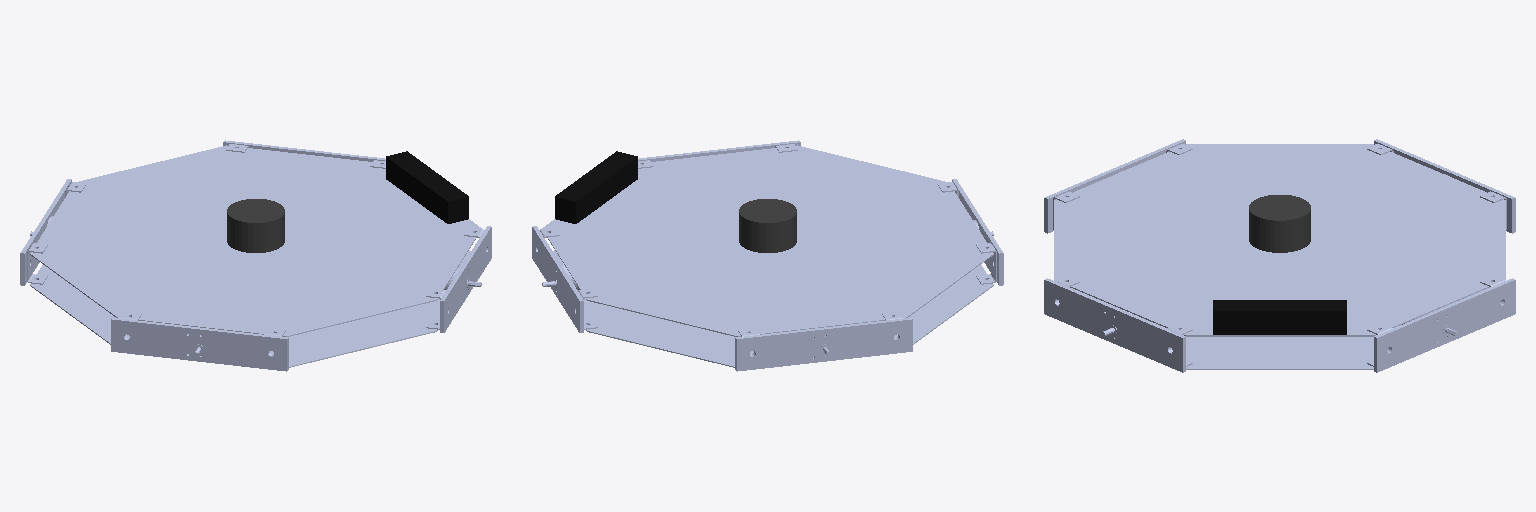
URDF robot description (Octobot_2):
<?xml version="1.0" encoding="utf-8"?>
<!-- This URDF was automatically created by SolidWorks to URDF Exporter! Originally created by [author] ([email redacted]) 
     Commit Version: 1.6.0-4-g7f85cfe  Build Version: 1.6.7995.38578
     For more information, please see http://wiki.ros.org/sw_urdf_exporter -->
<robot
  name="Octobot_2">

  
  <link
    name="base_link">
    <inertial>
      <origin
        xyz="7.1124E-17 -8.3267E-17 0.021908"
        rpy="0 0 0" />
      <mass
        value="1.1176" />
      <inertia
        ixx="0.011447"
        ixy="2.575E-18"
        ixz="4.0437E-20"
        iyy="0.011447"
        iyz="2.4119E-20"
        izz="0.022779" />
    </inertial>
    <visual>
      <origin
        xyz="0 0 0"
        rpy="0 0 0" />
      <geometry>
        <mesh
          filename="package://octobot_2/meshes/Base_link.STL" />
      </geometry>
      <material
        name="">
        <color
          rgba="0.79216 0.81961 0.93333 1" />
      </material>
    </visual>
    <collision>
      <origin
        xyz="0 0 0"
        rpy="0 0 0" />
      <geometry>
        <mesh
          filename="package://octobot_2/meshes/Base_link.STL" />
      </geometry>
    </collision>
  </link>

  <joint name="Base_footprint_joint" type="fixed">
        <parent link="base_link"/>
        <child link="base_footprint"/>
        <origin xyz="0 0 0" rpy="0 0 0"/>
    </joint>
    <link name="base_footprint">
    </link>

  <link
    name="FL_Link">
    <inertial>
      <origin
        xyz="9.2184E-07 -1.2007E-07 -0.0070104"
        rpy="0 0 0" />
      <mass
        value="0.088298" />
      <inertia
        ixx="3.4213E-05"
        ixy="4.4784E-10"
        ixz="-8.2869E-11"
        iyy="3.4217E-05"
        iyz="-6.5929E-11"
        izz="6.4363E-05" />
    </inertial>
    <visual>
      <origin
        xyz="0 0 0"
        rpy="0 0 0" />
      <geometry>
        <mesh
          filename="package://octobot_2/meshes/FL_Link.STL" />
      </geometry>
      <material
        name="">
        <color
          rgba="0.39216 0.41961 0.53333 1" />
      </material>
    </visual>
    <collision>
      <origin
        xyz="0 0 0"
        rpy="0 0 0" />
      <geometry>
        <mesh
          filename="package://octobot_2/meshes/FL_Link.STL" />
      </geometry>
    </collision>
  </link>
  <joint
    name="FL_Joint"
    type="continuous">
    <origin
      xyz="0.20406 0.20406 0.018501"
      rpy="1.5708 0 2.3562" />
    <parent
      link="base_link" />
    <child
      link="FL_Link" />
    <axis
      xyz="0 0 -1" />
  </joint>
  <link
    name="BL_Link">
    <inertial>
      <origin
        xyz="9.2186E-07 -1.2049E-07 -0.0070104"
        rpy="0 0 0" />
      <mass
        value="0.088298" />
      <inertia
        ixx="3.4213E-05"
        ixy="4.4798E-10"
        ixz="-8.2849E-11"
        iyy="3.4217E-05"
        iyz="-6.5977E-11"
        izz="6.4363E-05" />
    </inertial>
    <visual>
      <origin
        xyz="0 0 0"
        rpy="0 0 0" />
      <geometry>
        <mesh
          filename="package://octobot_2/meshes/BL_Link.STL" />
      </geometry>
      <material
        name="">
        <color
          rgba="0.39216 0.41961 0.53333 1" />
      </material>
    </visual>
    <collision>
      <origin
        xyz="0 0 0"
        rpy="0 0 0" />
      <geometry>
        <mesh
          filename="package://octobot_2/meshes/BL_Link.STL" />
      </geometry>
    </collision>
  </link>
  <joint
    name="BL_Joint"
    type="continuous">
    <origin
      xyz="-0.20406 0.20406 0.018501"
      rpy="1.5708 0 -2.3562" />
    <parent
      link="base_link" />
    <child
      link="BL_Link" />
    <axis
      xyz="0 0 -1" />
  </joint>
  <link
    name="BR_Link">
    <inertial>
      <origin
        xyz="-2.7677E-07 1.7253E-07 -0.0069896"
        rpy="0 0 0" />
      <mass
        value="0.088298" />
      <inertia
        ixx="3.4213E-05"
        ixy="-4.4778E-10"
        ixz="-8.2879E-11"
        iyy="3.4217E-05"
        iyz="6.5933E-11"
        izz="6.4363E-05" />
    </inertial>
    <visual>
      <origin
        xyz="0 0 0"
        rpy="0 0 0" />
      <geometry>
        <mesh
          filename="package://octobot_2/meshes/BR_Link.STL" />
      </geometry>
      <material
        name="">
        <color
          rgba="0.39216 0.41961 0.53333 1" />
      </material>
    </visual>
    <collision>
      <origin
        xyz="0 0 0"
        rpy="0 0 0" />
      <geometry>
        <mesh
          filename="package://octobot_2/meshes/BR_Link.STL" />
      </geometry>
    </collision>
  </link>
  <joint
    name="BR_Joint"
    type="continuous">
    <origin
      xyz="-0.20406 -0.20406 0.0185"
      rpy="1.5708 0 -0.7854" />
    <parent
      link="base_link" />
    <child
      link="BR_Link" />
    <axis
      xyz="0 0 -1" />
  </joint>
  <link
    name="FR_Link">
    <inertial>
      <origin
        xyz="-2.7674E-07 1.7255E-07 -0.0069896"
        rpy="0 0 0" />
      <mass
        value="0.088298" />
      <inertia
        ixx="3.4213E-05"
        ixy="-4.4778E-10"
        ixz="-8.2864E-11"
        iyy="3.4217E-05"
        iyz="6.5947E-11"
        izz="6.4363E-05" />
    </inertial>
    <visual>
      <origin
        xyz="0 0 0"
        rpy="0 0 0" />
      <geometry>
        <mesh
          filename="package://octobot_2/meshes/FR_Link.STL" />
      </geometry>
      <material
        name="">
        <color
          rgba="0.39216 0.41961 0.53333 1" />
      </material>
    </visual>
    <collision>
      <origin
        xyz="0 0 0"
        rpy="0 0 0" />
      <geometry>
        <mesh
          filename="package://octobot_2/meshes/FR_Link.STL" />
      </geometry>
    </collision>
  </link>
  <joint
    name="FR_Joint"
    type="continuous">
    <origin
      xyz="0.20406 -0.20406 0.0185"
      rpy="1.5708 0 0.7854" />
    <parent
      link="base_link" />
    <child
      link="FR_Link" />
    <axis
      xyz="0 0 -1" />
  </joint>
  <link
    name="Lidar_Link">
    <inertial>
      <origin
        xyz="7.9797E-17 -1.1102E-16 0.063"
        rpy="0 0 0" />
      <mass
        value="0.15394" />
      <inertia
        ixx="6.7669E-05"
        ixy="-1.8808E-37"
        ixz="2.3468E-21"
        iyy="6.7669E-05"
        iyz="-9.2535E-24"
        izz="9.4287E-05" />
    </inertial>
    <visual>
      <origin
        xyz="0 0 0"
        rpy="0 0 0" />
      <geometry>
        <mesh
          filename="package://octobot_2/meshes/Lidar_Link.STL" />
      </geometry>
      <material
        name="">
        <color
          rgba="0.3 0.3 0.3 1" />
      </material>
    </visual>
    <collision>
      <origin
        xyz="0 0 0"
        rpy="0 0 0" />
      <geometry>
        <mesh
          filename="package://octobot_2/meshes/Lidar_Link.STL" />
      </geometry>
    </collision>
  </link>
  <joint
    name="Lidar_Joint"
    type="fixed">
    <origin
      xyz="0 0 0"
      rpy="0 0 0" />
    <parent
      link="base_link" />
    <child
      link="Lidar_Link" />
    <axis
      xyz="0 0 0" />
  </joint>
  <gazebo reference="Lidar_Link">
        <material>Gazebo/Black</material>

        <sensor name="laser" type="ray">
            <pose> 0 0 0 0 0 0 </pose>
            <visualize>true</visualize>
            <update_rate>10</update_rate>
            <ray>
                <scan>
                    <horizontal>
                        <samples>360</samples>
                        <min_angle>-3.14</min_angle>
                        <max_angle>3.14</max_angle>
                    </horizontal>
                </scan>
                <range>
                    <min>0.35</min>
                    <max>12</max>
                </range>
            </ray>
            <plugin name="laser_controller" filename="libgazebo_ros_ray_sensor.so">
                <ros>
                    <argument>~/out:=scan</argument>
                </ros>
                <output_type>sensor_msgs/LaserScan</output_type>
                <frame_name>Lidar_Link</frame_name>
            </plugin>
        </sensor>
    </gazebo>
  <link
    name="Camera_Link">
    <inertial>
      <origin
        xyz="7.9797E-17 -1.1102E-16 0.063"
        rpy="0 0 0" />
      <mass
        value="0.15394" />
      <inertia
        ixx="6.7669E-05"
        ixy="-1.8808E-37"
        ixz="2.3468E-21"
        iyy="6.7669E-05"
        iyz="-9.2535E-24"
        izz="9.4287E-05" />
    </inertial>
    <visual>
      <origin
        xyz="0 0 0"
        rpy="0 0 0" />
      <geometry>
        <mesh
          filename="package://octobot_2/meshes/Camera_Link.STL" />
      </geometry>
      <material
        name="">
        <color
          rgba="0.1 0.1 0.1 1" />
      </material>
    </visual>
    <collision>
      <origin
        xyz="0 0 0"
        rpy="0 0 0" />
      <geometry>
        <mesh
          filename="package://octobot_2/meshes/Camera_Link.STL" />
      </geometry>
    </collision>
  </link>
  <joint
    name="Camera_Joint"
    type="fixed">
    <origin
      xyz="0 0 0"
      rpy="0 0 0" />
    <parent
      link="base_link" />
    <child
      link="Camera_Link" />
    <axis
      xyz="0 0 0.063" />
  </joint>

     <gazebo reference="Camera_Link">
        <material>Gazebo/Black</material>

        <sensor name="camera" type="camera">
            <pose> 0 0 0 0 0 0 </pose>
            <visualize>true</visualize>
            <update_rate>10</update_rate>
            <camera>
                <horizontal_fov>1.089</horizontal_fov>
                <image>
                    <format>R8G8B8</format>
                    <width>640</width>
                    <height>480</height>
                </image>
                <clip>
                    <near>0.05</near>
                    <far>8.0</far>
                </clip>
            </camera>
            <plugin name="camera_controller" filename="libgazebo_ros_camera.so">
                <frame_name>Camera_Link</frame_name>
            </plugin>
        </sensor>
    </gazebo>
    
  	<gazebo>
        <plugin name="diff_drive" filename="libgazebo_ros_planar_move.so">
            <!-- Output -->
            <odometry_frame>odom</odometry_frame>
            <robot_base_frame>base_link </robot_base_frame>

            <publish_odom>true</publish_odom>
            <publish_odom_tf>true</publish_odom_tf>
            <publish_wheel_tf>true</publish_wheel_tf>

        </plugin>
    </gazebo>


</robot>

--- Facts derived from the render (not from the file) ---
3 views of the same robot in one strip: view 1: azimuth 30°, elevation 25°; view 2: azimuth 150°, elevation 25°; view 3: azimuth 270°, elevation 25° (orthographic).
Robot: Octobot_2 — 8 links, 7 joints (4 continuous, 3 fixed); root link base_link; default pose: all joints at 0.
Visible links, largest first — view 1: base_link, Camera_Link, Lidar_Link; view 2: base_link, Camera_Link, Lidar_Link; view 3: base_link, Camera_Link, Lidar_Link.
Link boxes in pixels (x1,y1,x2,y2): base_link: (20,140,491,371); Camera_Link: (386,151,468,223); Lidar_Link: (227,199,284,252); base_link: (532,140,1003,371); Camera_Link: (555,151,637,223); Lidar_Link: (739,199,796,252); base_link: (1044,139,1515,372); Camera_Link: (1213,300,1346,334); Lidar_Link: (1249,195,1310,252).
Bounding box of the posed robot: 0.5297 × 0.5297 × 0.083 m (x, y, z).
3 mesh visuals loaded from 7 distinct referenced files (3 binary STL); not drawn: 4 (file found but could not be loaded).